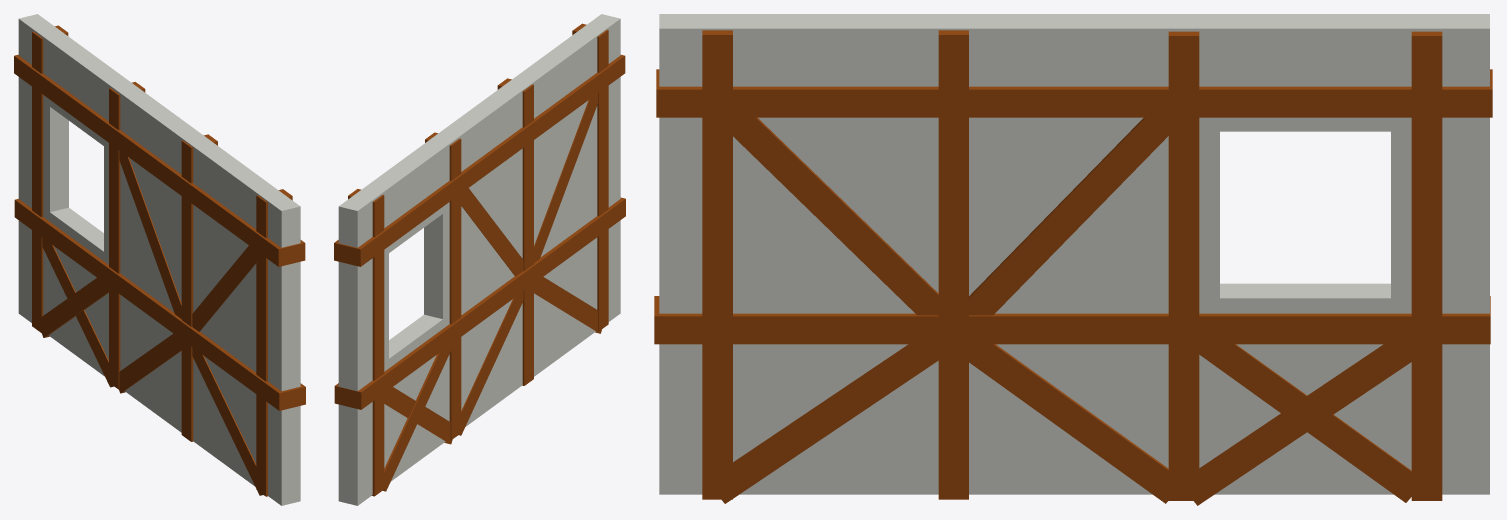
Rendered from OneWindowWall2.fbx.
3 views of the same model, side by side, from view 1: azimuth 30°, elevation 25°; view 2: azimuth 150°, elevation 25°; view 3: azimuth 270°, elevation 25° (orthographic). The views are drawn at different scales.
Visible parts, largest first — view 1: OneWindowWall2; view 2: OneWindowWall2; view 3: OneWindowWall2.
Boxes of the visible parts, x1=… form: OneWindowWall2: x1=14, y1=14, x2=305, y2=505; OneWindowWall2: x1=334, y1=14, x2=625, y2=505; OneWindowWall2: x1=654, y1=14, x2=1492, y2=505.
Size of the model in its own units: 113 by 1133 by 1810.
